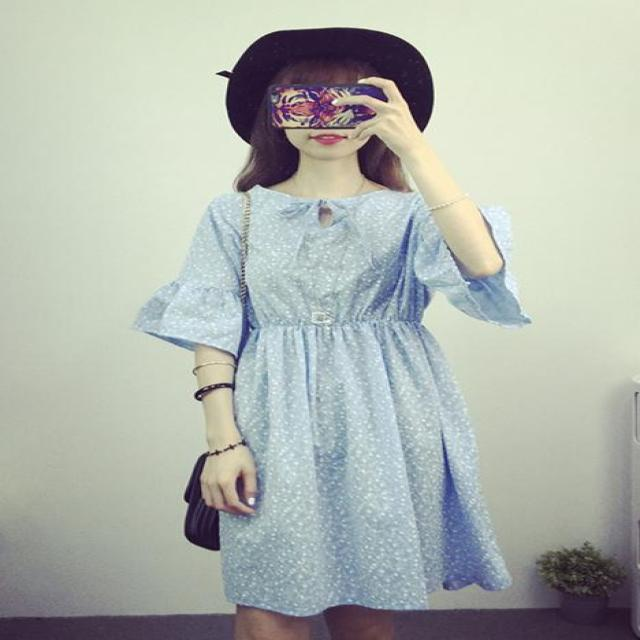short-sleeve-dress: (172, 170, 539, 620)
